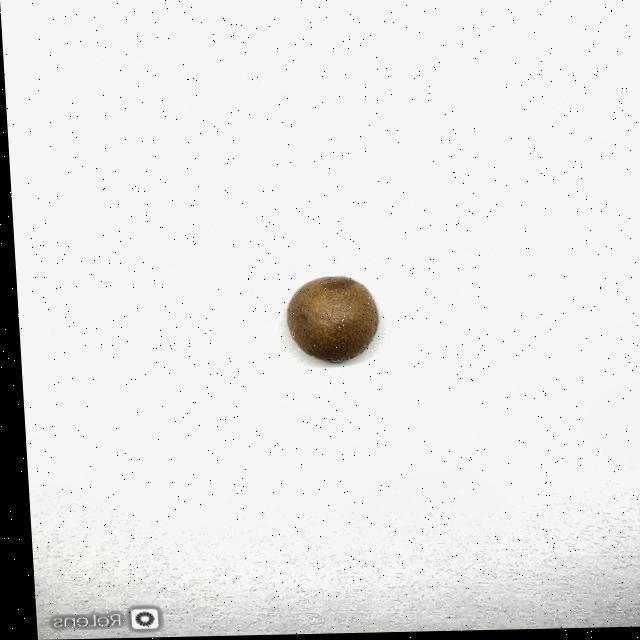Good bean: (280, 276, 378, 365)
